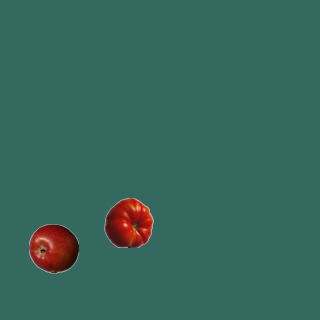Apple Braeburn: (28, 223, 78, 273)
Tomato 3: (103, 197, 153, 247)
